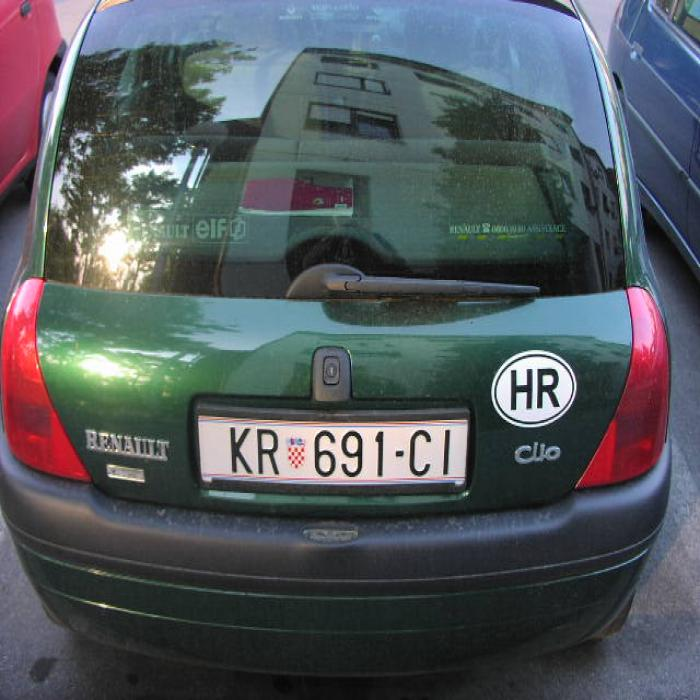number_plate: (200, 416, 464, 481)
